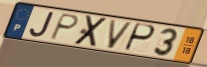3: (153, 27, 180, 58)
J: (28, 11, 56, 38)
P: (122, 22, 157, 53), (48, 12, 81, 42)
V: (106, 18, 135, 50)
X: (72, 15, 110, 48)
